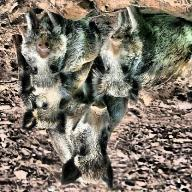boar: (94, 1, 192, 105), (10, 5, 95, 87), (53, 106, 138, 184), (17, 72, 84, 135)
